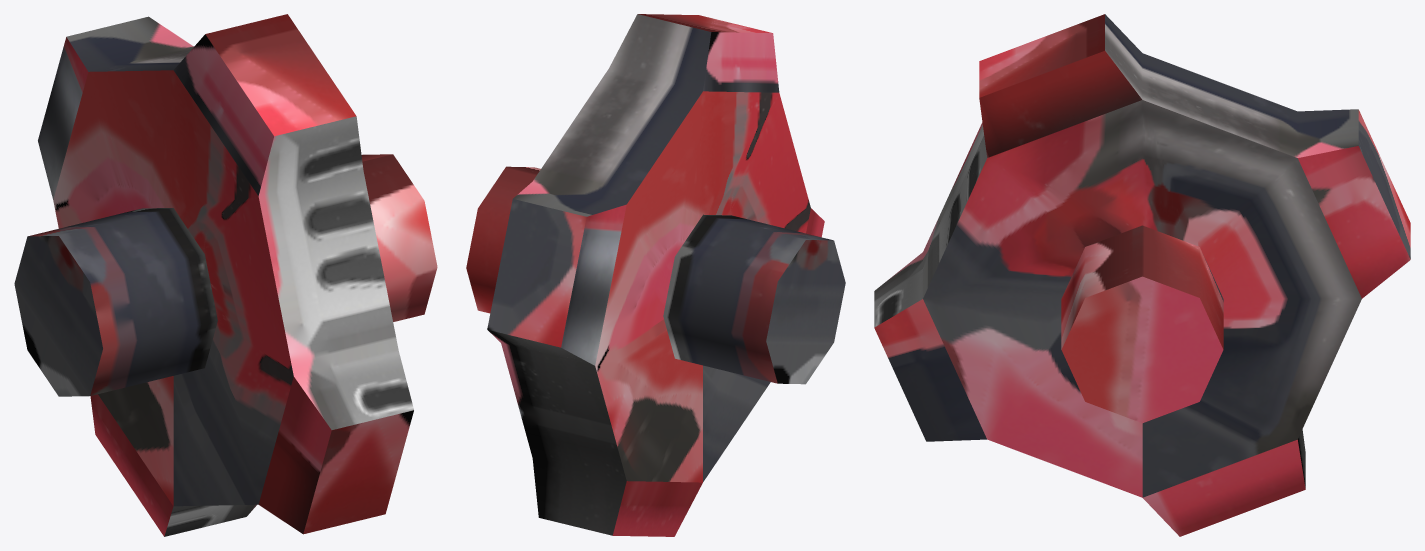
File: grinder_trap_gear.fbx
3 renders of one model, left to right at view 1: azimuth 30°, elevation 25°; view 2: azimuth 150°, elevation 25°; view 3: azimuth 270°, elevation 25°, orthographic. The views are drawn at different scales.
Visible parts, largest first — view 1: Long Crusher.007; view 2: Long Crusher.007; view 3: Long Crusher.007.
Boxes of the visible parts, box(x1,y1,x2,y2) form: Long Crusher.007: box(14, 14, 437, 536); Long Crusher.007: box(466, 14, 845, 536); Long Crusher.007: box(874, 14, 1410, 536).
Size of the model in its own units: 64.19 by 97.76 by 97.76.
